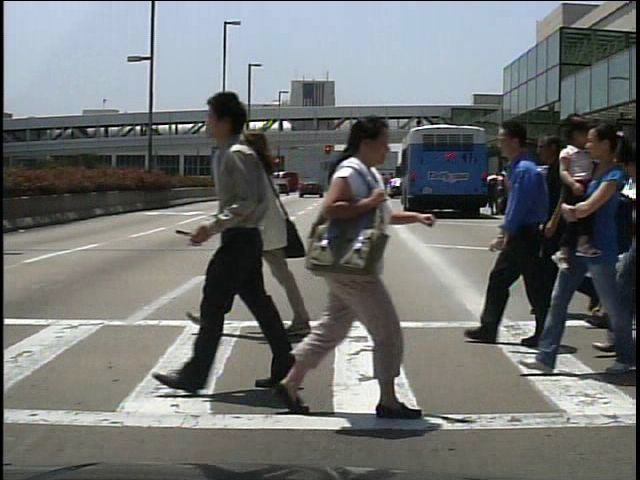person: (168, 82, 336, 414), (278, 113, 410, 423), (203, 118, 333, 343), (472, 115, 570, 348), (520, 130, 593, 322), (617, 144, 640, 351), (582, 168, 602, 218), (487, 162, 505, 214)
